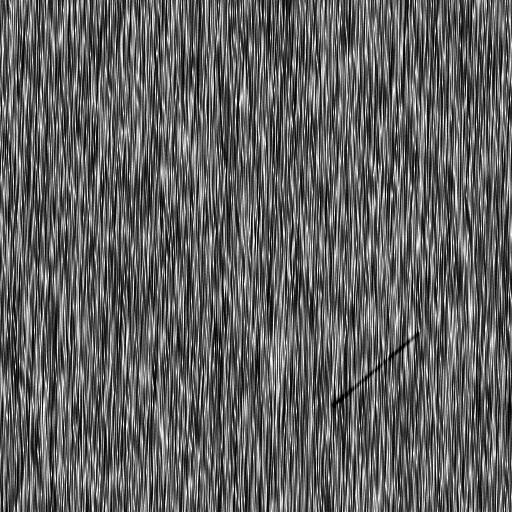DefectTypeC: (336, 333, 419, 410)
